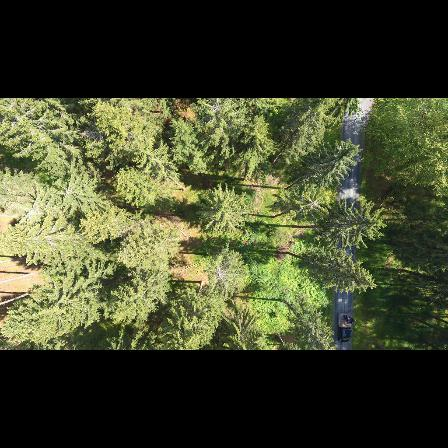Sick: (205, 255, 236, 292), (302, 187, 328, 218)
